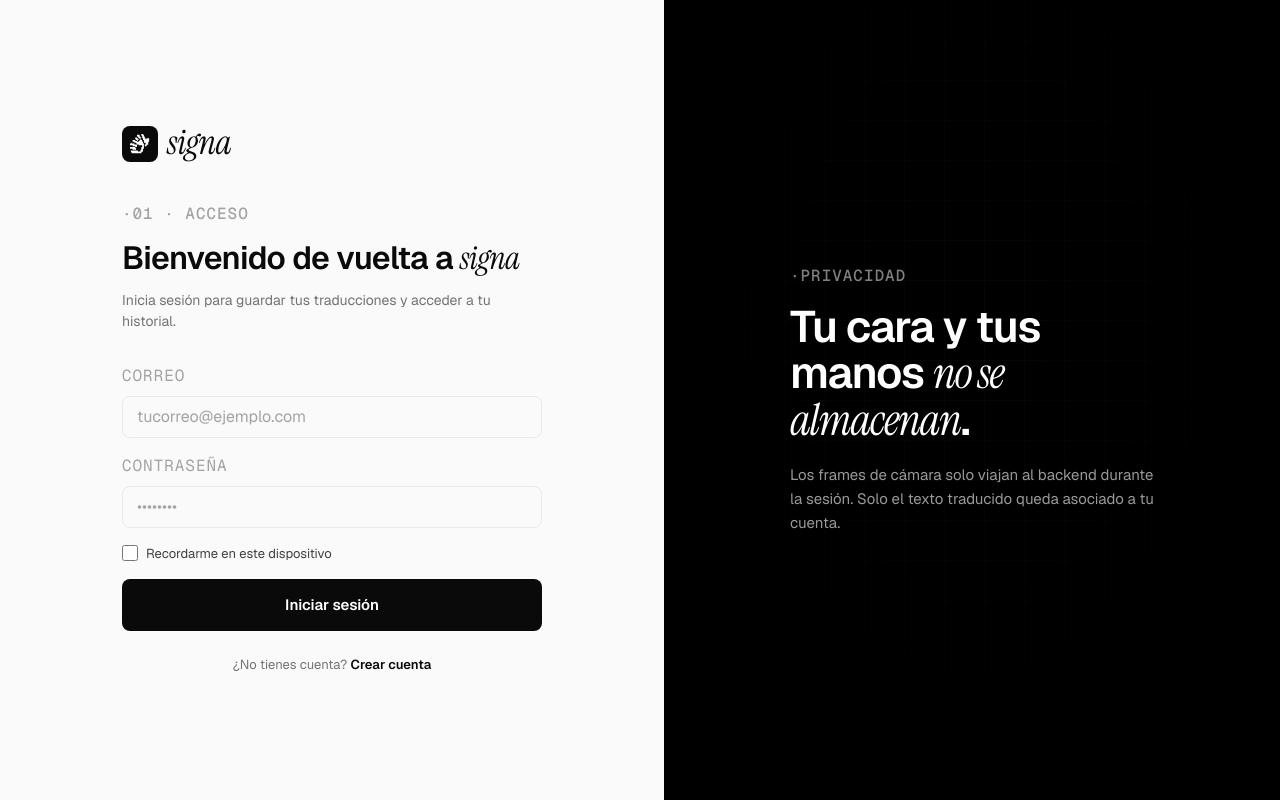
Test: LoginPage › shows error message on 401
Type "fail@signa.dev" into the field labelled "Correo" at (332, 416), box [122,396,542,438]
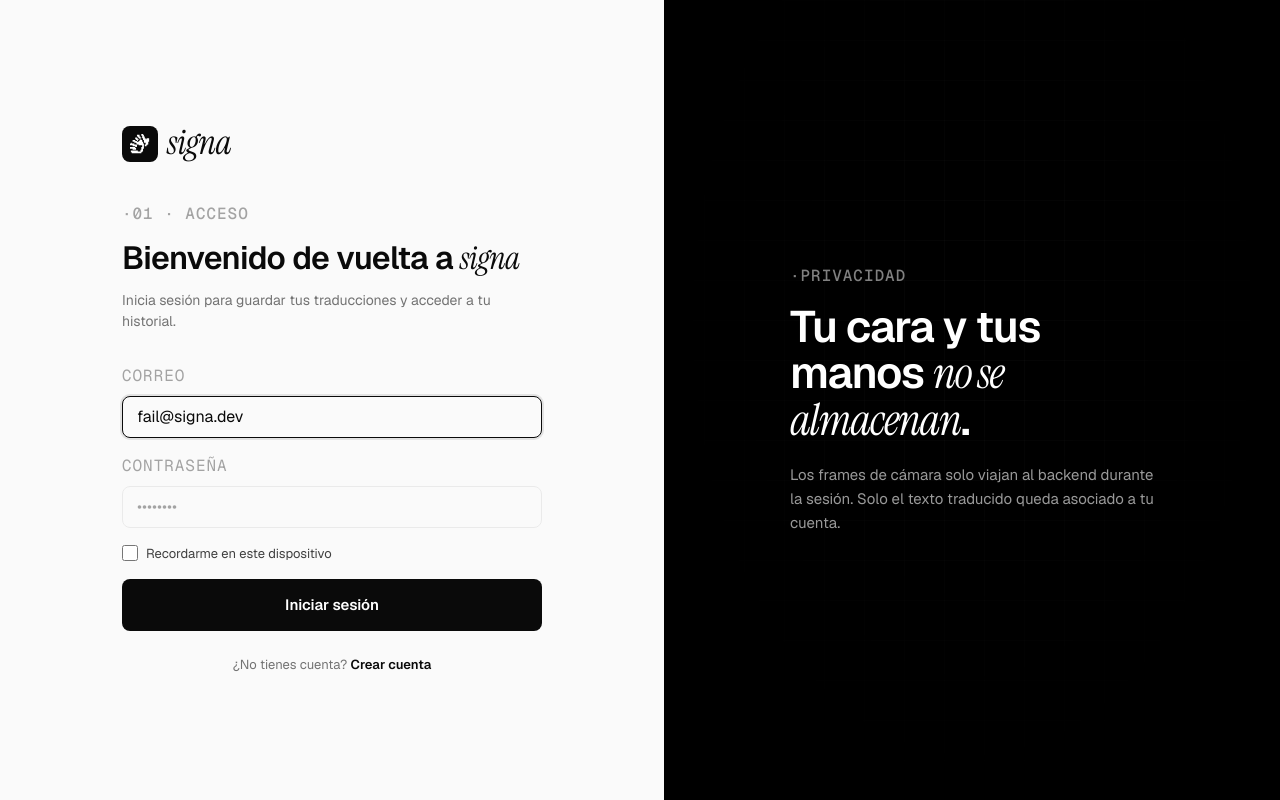
Type "wrong" into the password field labelled "Contraseña" at (332, 506), box [122,486,542,528]
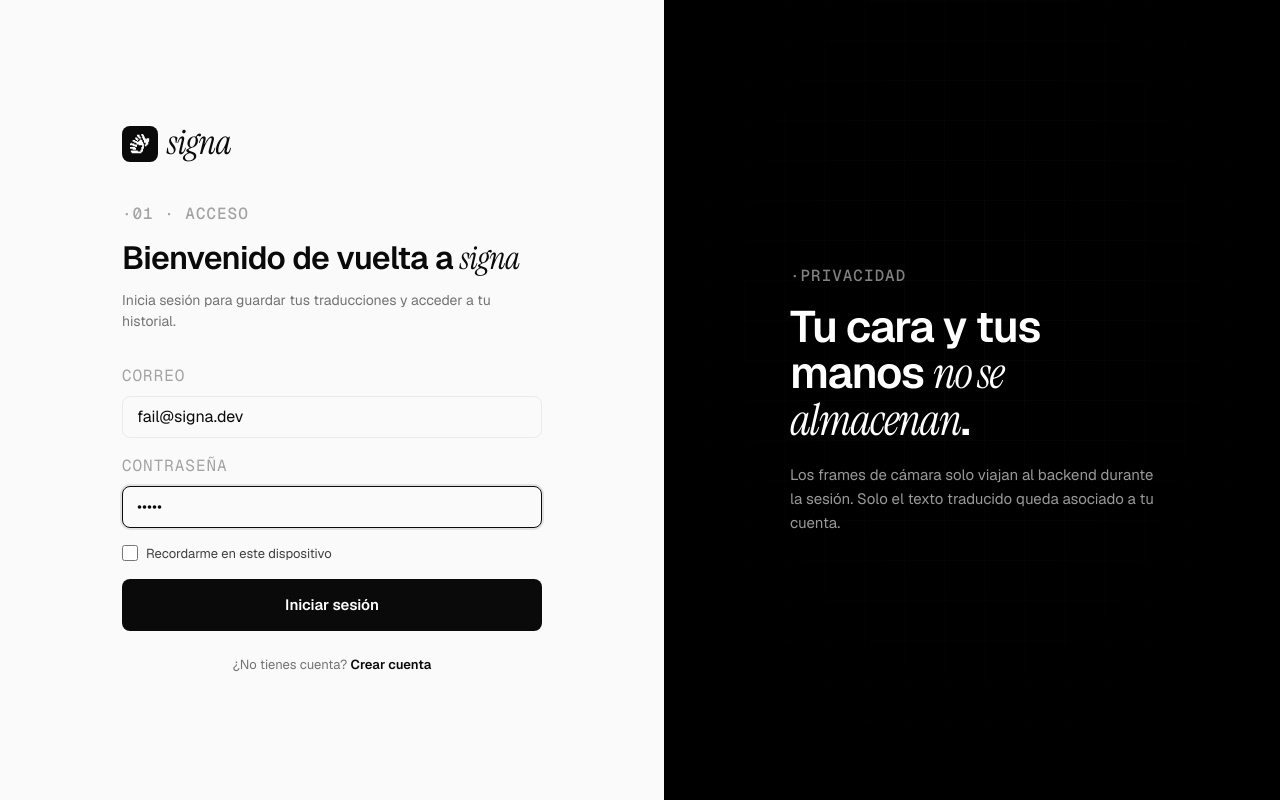
Click the button "Iniciar sesión" at (332, 605), box [122,579,542,631]
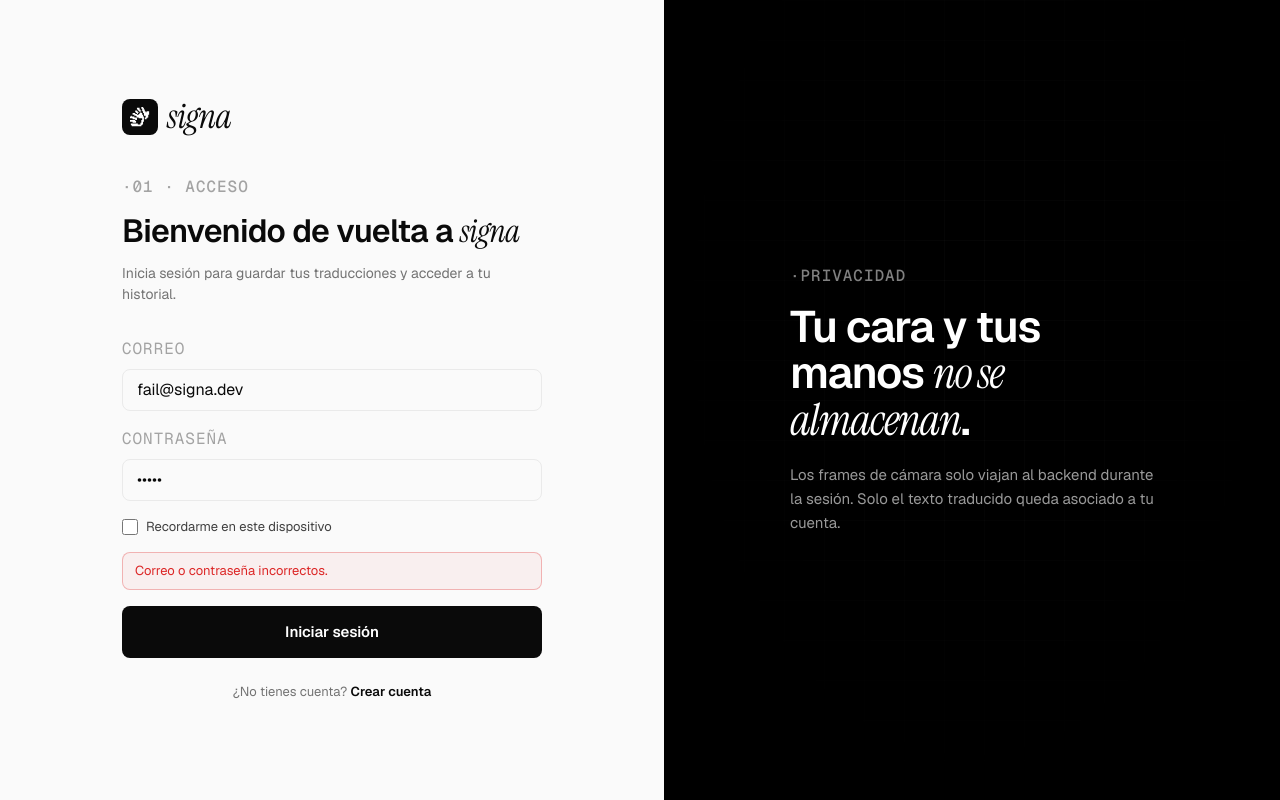
Expected: the text "Correo o contraseña incorrectos." is shown, [122,552,542,590]
